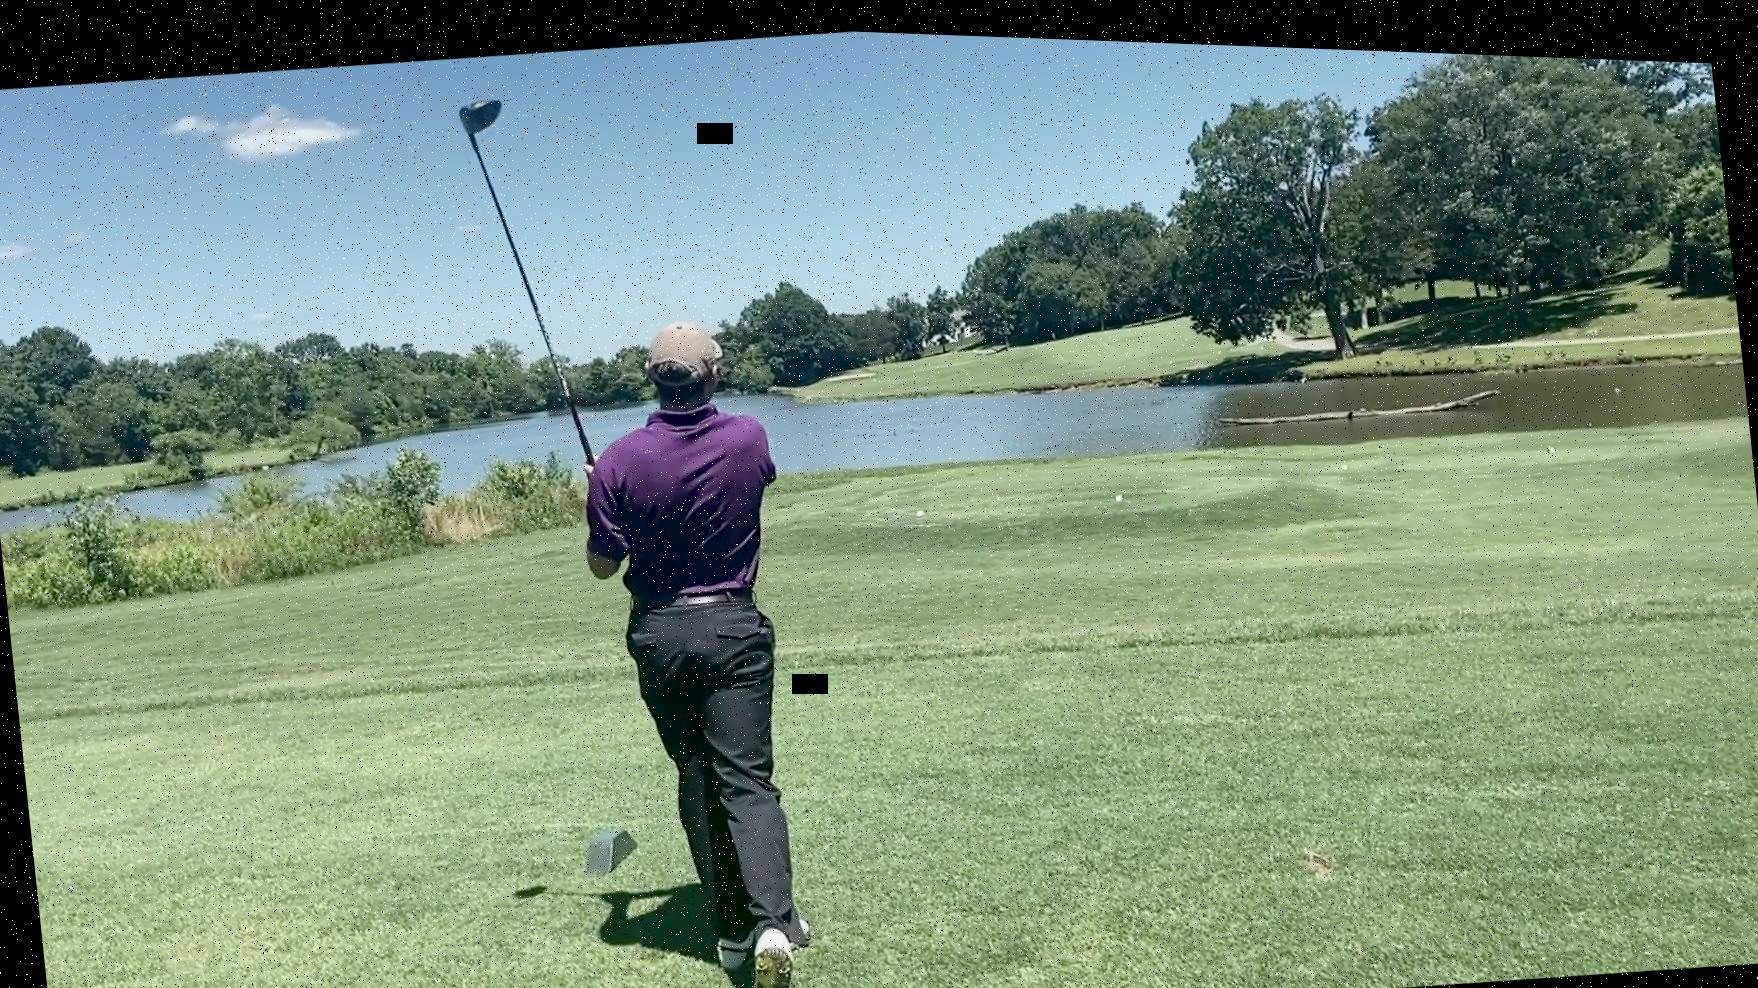ClubHead: (456, 92, 510, 150)
